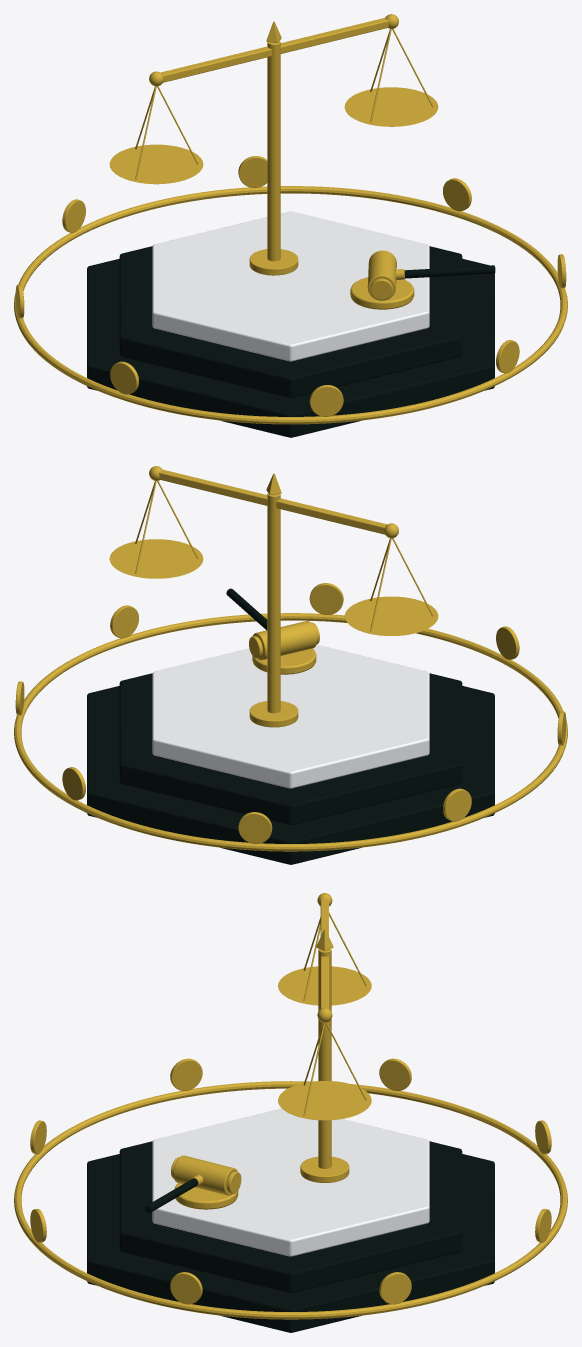
File: auction-gavel-podium.glb
The picture shows the model from 3 angles, top to bottom: view 1: azimuth 30°, elevation 25°; view 2: azimuth 150°, elevation 25°; view 3: azimuth 270°, elevation 25°; orthographic projection.
Visible parts, largest first — view 1: Podium_Base, Dividend_Ring, Scale_Post, Scale_Pan_R, Scale_Pan_L, Scale_Beam, Gavel_Head, Gavel_Handle, Dividend_Coin_06, Dividend_Coin_02, Dividend_Coin_01, Dividend_Coin_05 (+2 smaller); view 2: Podium_Base, Dividend_Ring, Scale_Post, Scale_Pan_L, Scale_Pan_R, Scale_Beam, Gavel_Head, Dividend_Coin_03, Dividend_Coin_07, Dividend_Coin_04, Dividend_Coin_08, Dividend_Coin_06 (+1 smaller); view 3: Podium_Base, Dividend_Ring, Scale_Pan_R, Scale_Post, Scale_Pan_L, Gavel_Head, Scale_Beam, Dividend_Coin_04, Dividend_Coin_05, Dividend_Coin_01, Dividend_Coin_08, Gavel_Handle.
Boxes of the visible parts, left/top/right/bottom form: Podium_Base: left=87, top=211, right=494, bottom=437; Dividend_Ring: left=14, top=186, right=567, bottom=424; Scale_Post: left=249, top=21, right=298, bottom=275; Scale_Pan_R: left=344, top=29, right=438, bottom=126; Scale_Pan_L: left=109, top=86, right=203, bottom=184; Scale_Beam: left=149, top=14, right=398, bottom=86; Gavel_Head: left=367, top=250, right=396, bottom=300; Gavel_Handle: left=395, top=265, right=495, bottom=279; Dividend_Coin_06: left=309, top=385, right=343, bottom=416; Dividend_Coin_02: left=238, top=156, right=267, bottom=187; Dividend_Coin_01: left=443, top=178, right=471, bottom=211; Dividend_Coin_05: left=110, top=361, right=138, bottom=394; Podium_Base: left=87, top=644, right=494, bottom=864; Dividend_Ring: left=14, top=613, right=567, bottom=851; Scale_Post: left=249, top=473, right=298, bottom=727; Scale_Pan_L: left=344, top=538, right=438, bottom=635; Scale_Pan_R: left=109, top=480, right=203, bottom=578; Scale_Beam: left=149, top=466, right=398, bottom=538; Gavel_Head: left=249, top=621, right=319, bottom=660; Dividend_Coin_03: left=238, top=812, right=272, bottom=843; Dividend_Coin_07: left=309, top=583, right=343, bottom=614; Dividend_Coin_04: left=443, top=788, right=471, bottom=821; Dividend_Coin_08: left=110, top=605, right=138, bottom=638; Dividend_Coin_06: left=496, top=626, right=519, bottom=659; Podium_Base: left=87, top=1108, right=494, bottom=1332; Dividend_Ring: left=14, top=1081, right=567, bottom=1319; Scale_Pan_R: left=278, top=1022, right=371, bottom=1120; Scale_Post: left=300, top=929, right=349, bottom=1182; Scale_Pan_L: left=278, top=912, right=371, bottom=1005; Gavel_Head: left=171, top=1155, right=241, bottom=1195; Scale_Beam: left=317, top=893, right=332, bottom=1022; Dividend_Coin_04: left=379, top=1058, right=411, bottom=1090; Dividend_Coin_05: left=170, top=1058, right=202, bottom=1090; Dividend_Coin_01: left=379, top=1272, right=411, bottom=1304; Dividend_Coin_08: left=170, top=1272, right=202, bottom=1304; Gavel_Handle: left=145, top=1174, right=203, bottom=1212.
Size of the model in its own units: 2.94 by 1.79 by 2.94.
